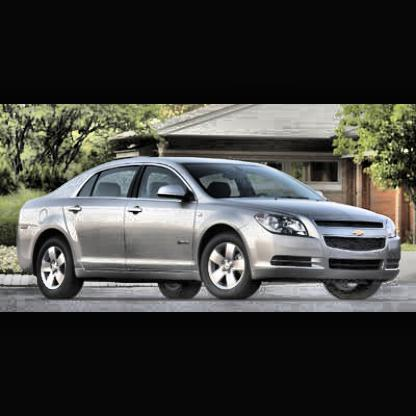Chevrolet Malibu Hybrid Sedan 2010: (18, 159, 404, 303)
